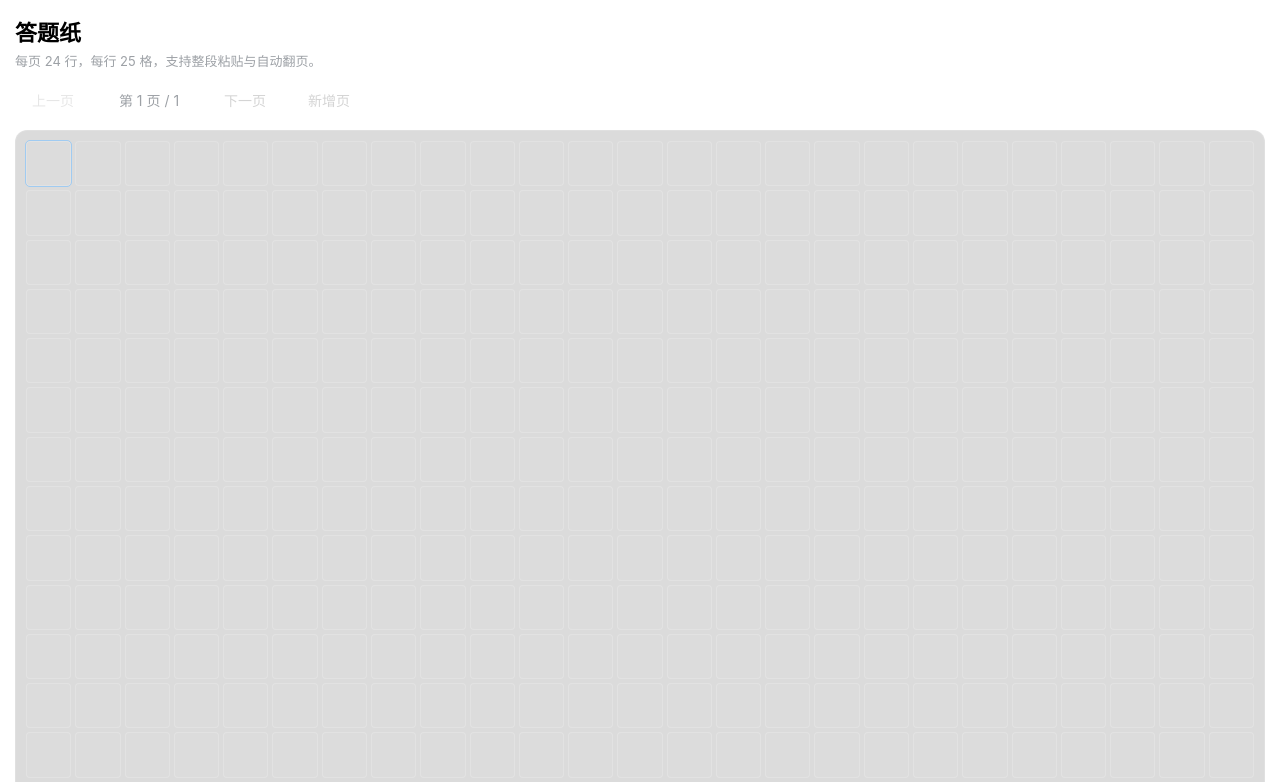
grid editor supports manual pagination
Click the button "新增页": point(329, 100) x1=291 y1=80 x2=367 y2=120
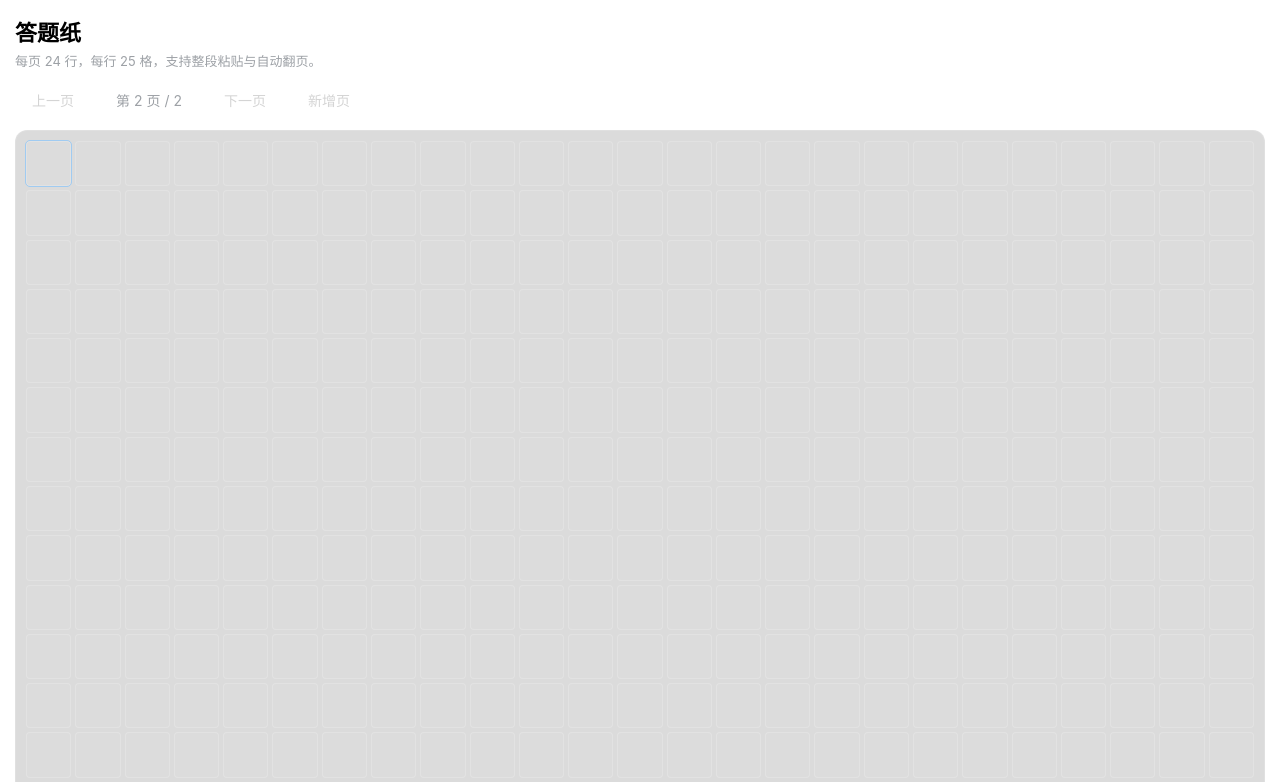
Result: the text "第 2 页 / 2" is shown at x1=116 y1=92 x2=182 y2=109
Click the button "上一页": point(53, 100) x1=15 y1=80 x2=91 y2=120
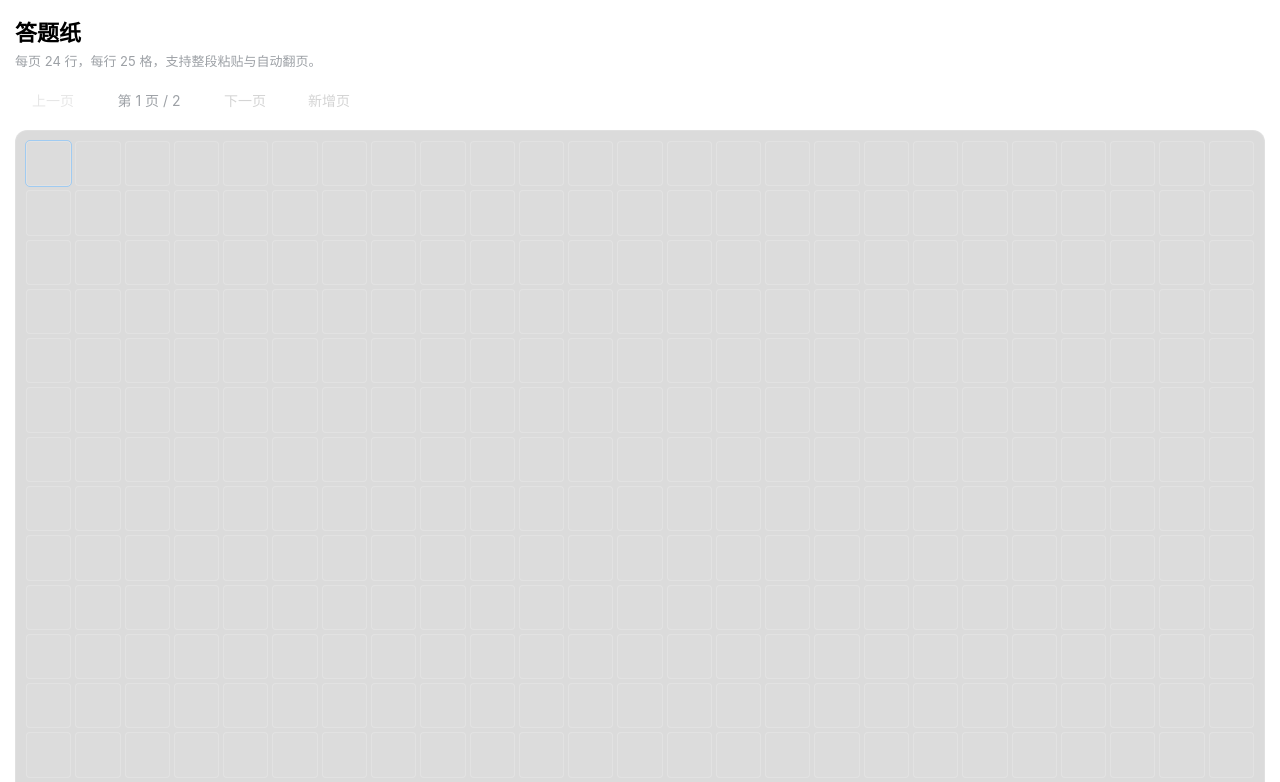
Result: the text "第 1 页 / 2" is shown at x1=118 y1=92 x2=180 y2=109
